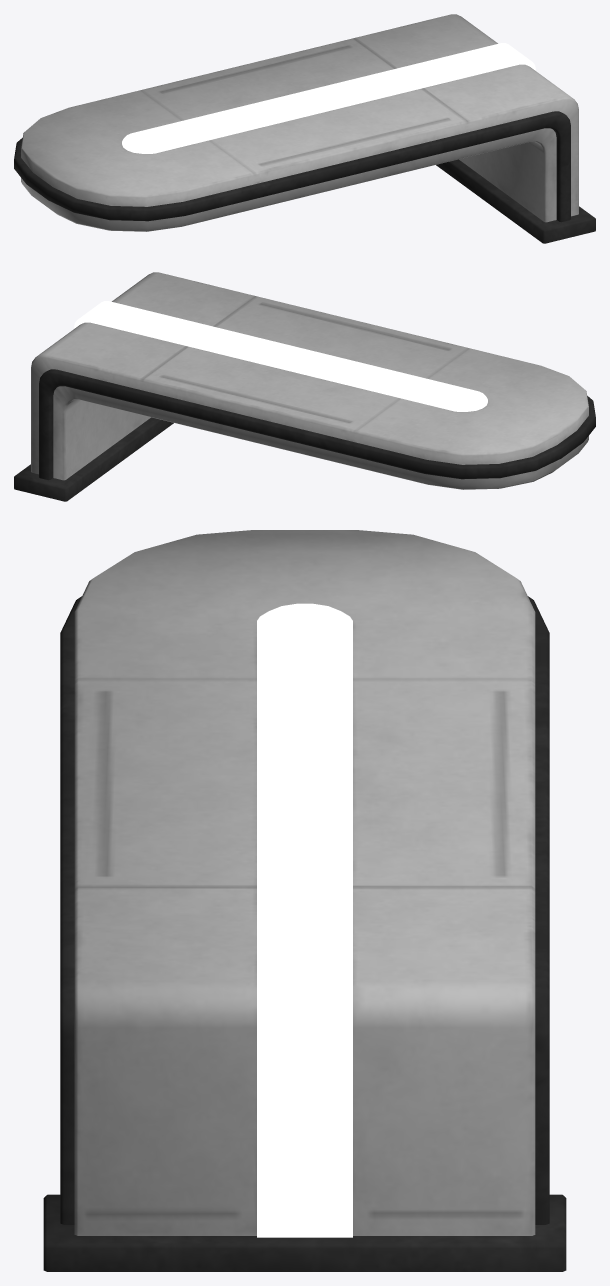
The model's file is Nexus_barTable_pref.fbx.
3 renders of one model, top to bottom at view 1: azimuth 30°, elevation 25°; view 2: azimuth 150°, elevation 25°; view 3: azimuth 270°, elevation 25°, orthographic. The views are drawn at different scales.
Visible parts, largest first — view 1: BarTable; view 2: BarTable; view 3: BarTable.
Boxes of the visible parts, left/top/right/bottom form: BarTable: left=14, top=14, right=595, bottom=243; BarTable: left=14, top=272, right=595, bottom=501; BarTable: left=43, top=530, right=566, bottom=1271.
Size of the model in its own units: 160 by 41.94 by 73.09.
1 material, 1 textured.
